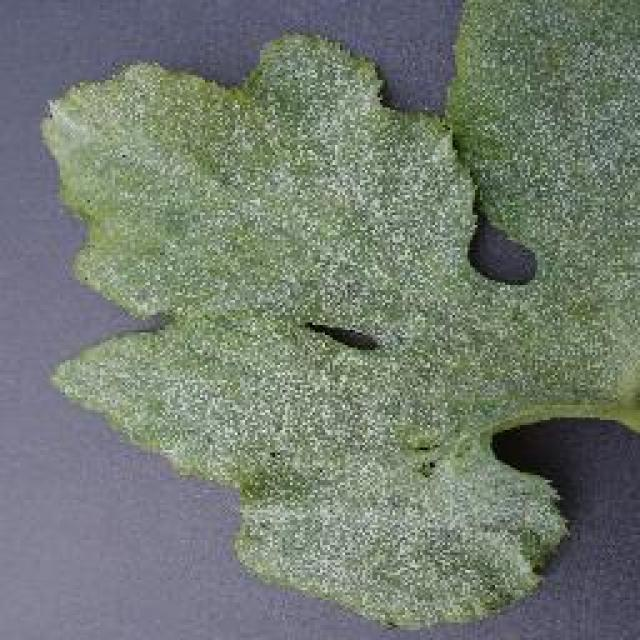Squ_Powdery_mildew: (106, 79, 504, 553)
